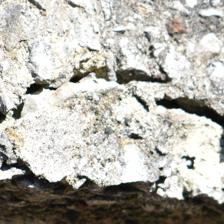Crack: (56, 79, 119, 145), (138, 44, 202, 88)
